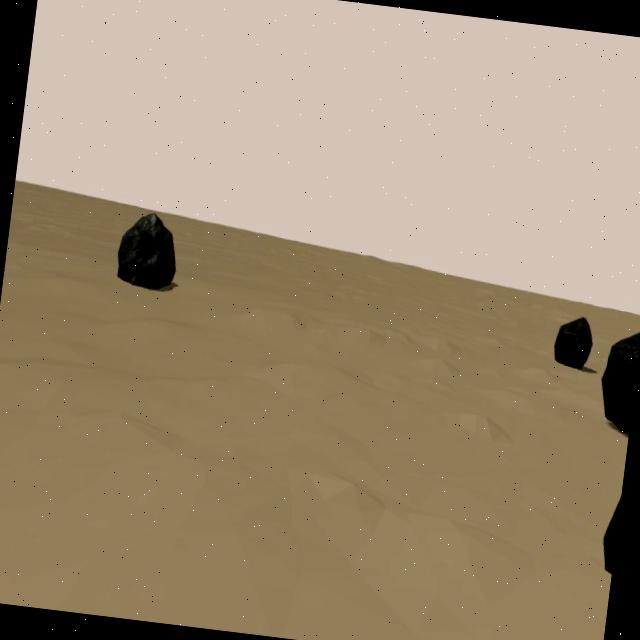rock: (114, 206, 182, 293), (595, 323, 640, 432), (551, 314, 595, 371), (598, 477, 622, 576)
